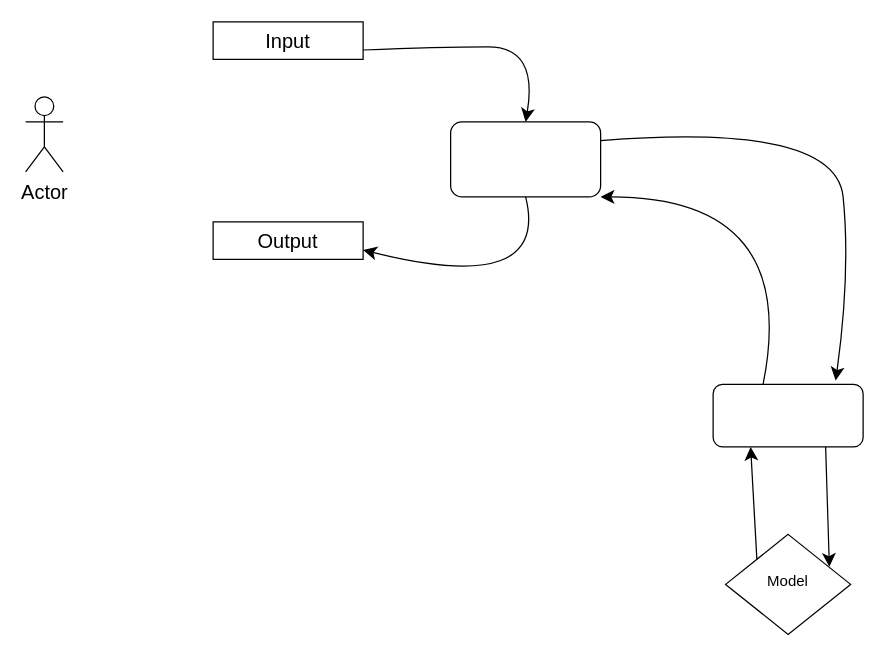
The diagram is 885 pixels wide and 656 high, and some of its shapes have lost their labels. Here are the shapes that lost their labels. From the top down, the box of each, then its label:
(449, 121, 601, 197): Web Application
(712, 383, 863, 447): Back-end Python code
